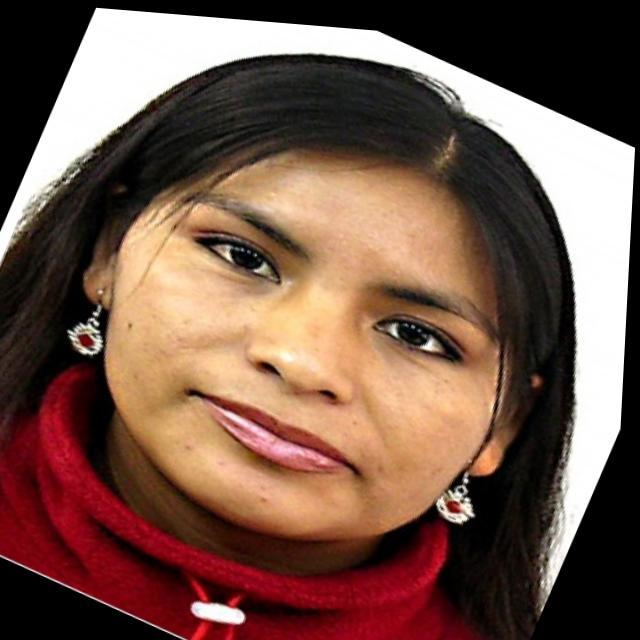Nonhelmet: (0, 48, 581, 638)
